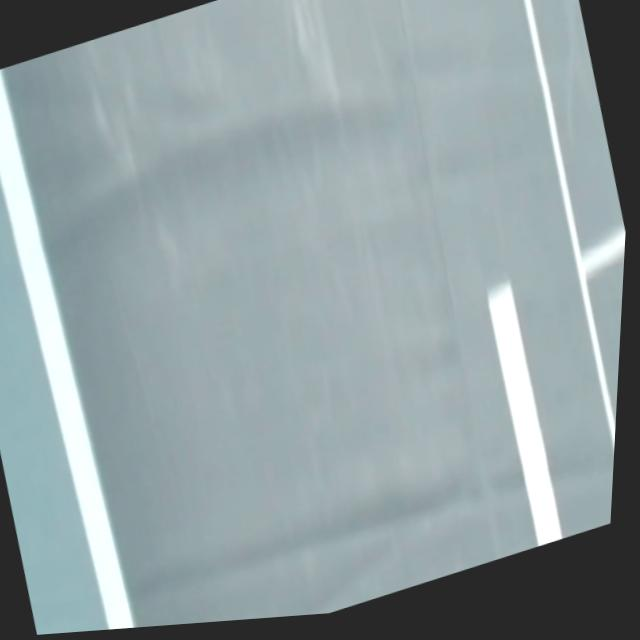center: (488, 281, 561, 546)
left: (0, 69, 135, 630)
